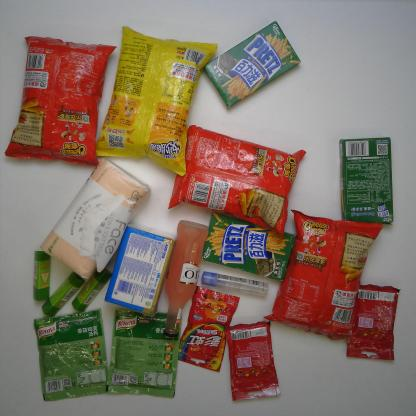Alcohol: (162, 217, 211, 338)
Candy: (176, 284, 243, 374), (221, 319, 284, 404), (343, 278, 403, 363)
Dessert: (202, 18, 304, 112), (197, 208, 298, 284), (336, 135, 397, 230)
Puffed Food: (94, 22, 219, 178), (167, 120, 308, 242), (262, 204, 384, 342), (3, 34, 119, 171)
Seasoner: (31, 307, 114, 404), (103, 308, 185, 403)
Stationery: (199, 268, 271, 300), (40, 271, 86, 319), (70, 265, 114, 314), (30, 248, 55, 303)
Tissue: (38, 153, 153, 282), (101, 221, 177, 319)
